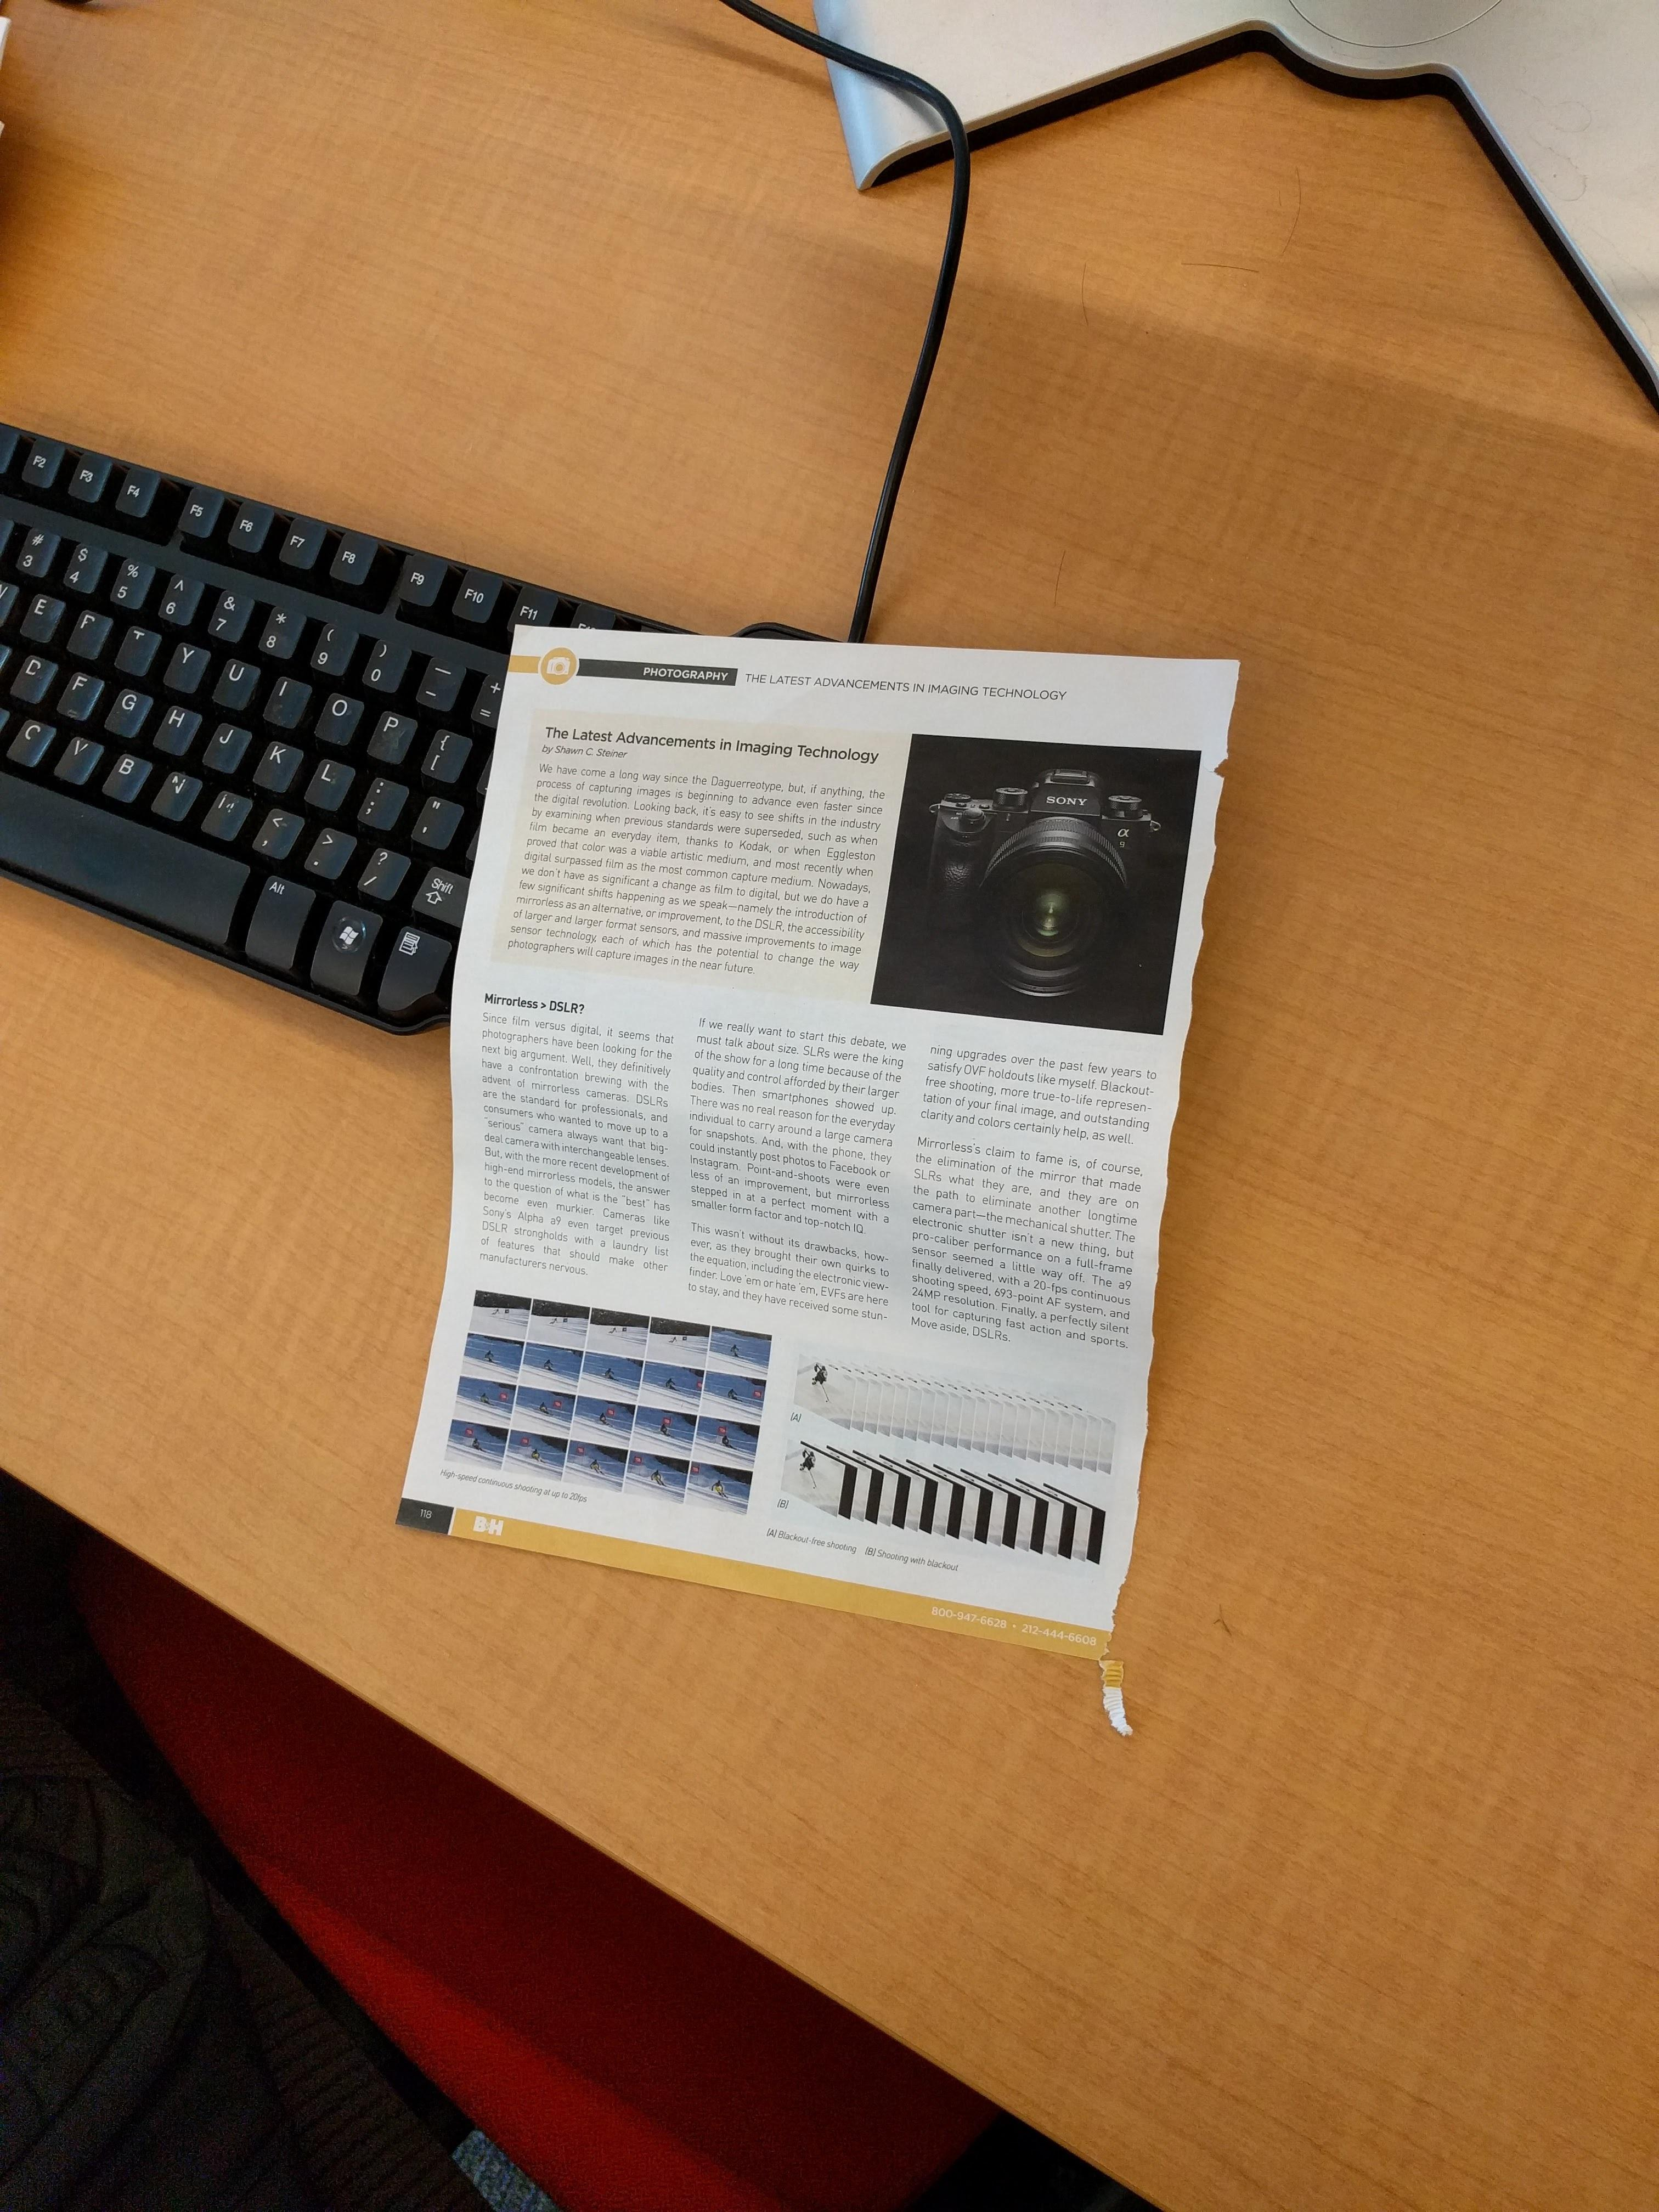paper: (261, 357, 1520, 1876)
